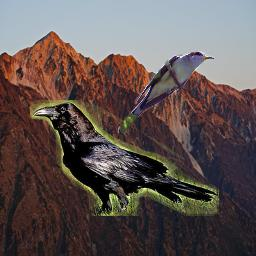Crow: (30, 100, 219, 216)
Cuckoo: (118, 51, 214, 133)
